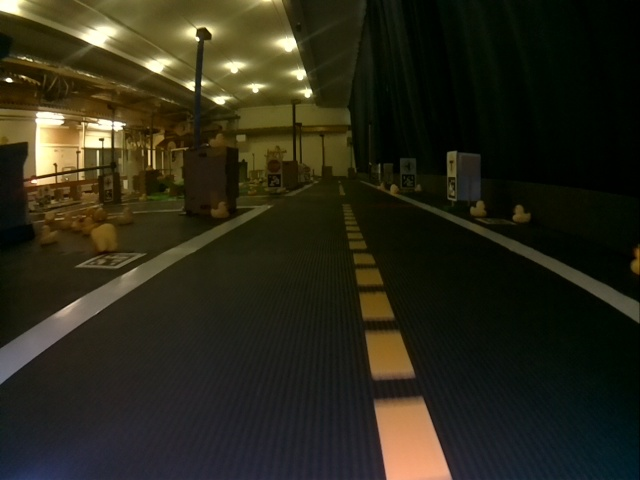Duckie: (92, 225, 119, 252), (40, 225, 60, 244), (512, 204, 529, 223), (212, 201, 231, 218), (117, 207, 134, 223), (470, 201, 487, 216), (208, 134, 225, 148), (390, 184, 395, 193)
Intersection sign: (448, 154, 456, 172)
QR code: (82, 251, 144, 269), (400, 174, 415, 189), (447, 177, 455, 201), (269, 176, 281, 188)
Stop sign: (267, 158, 281, 171)
